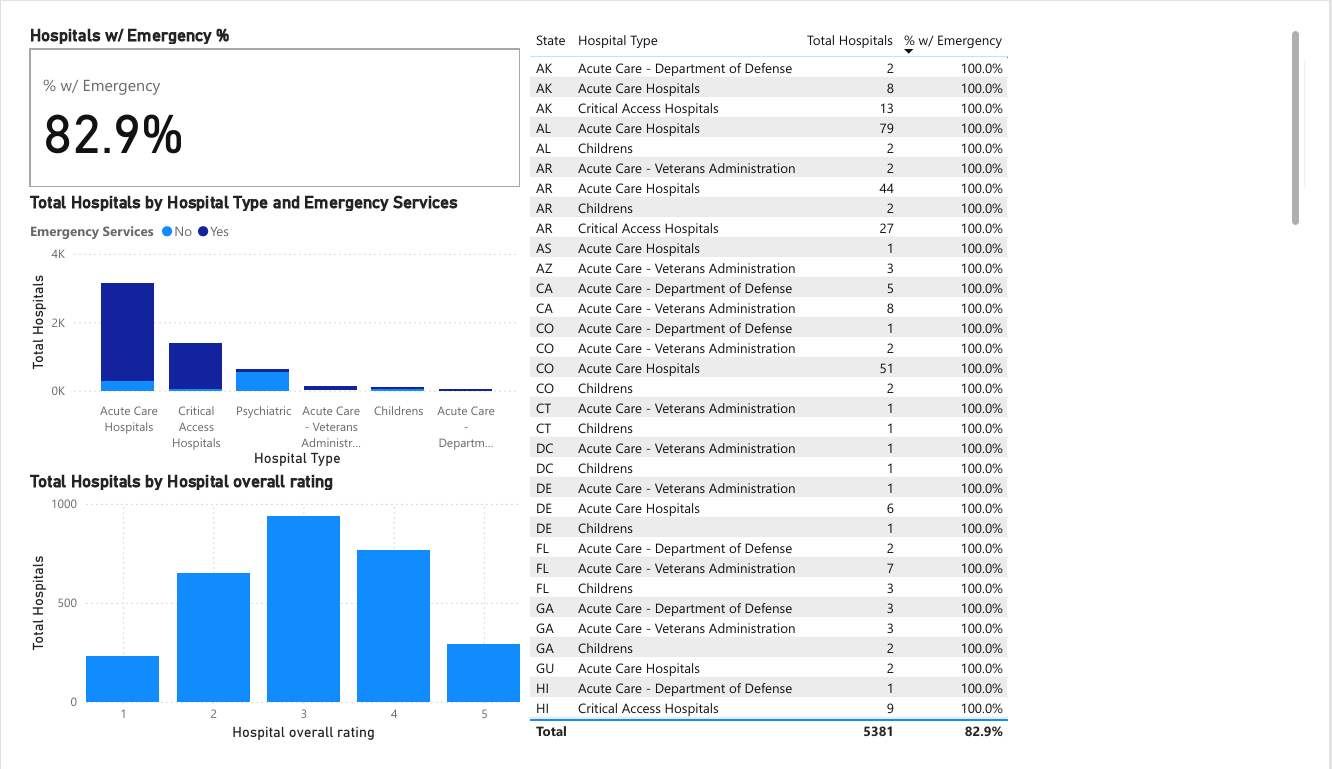

Layout of this report page (visuals, bound fields, positions):
{"tool":"powerbi","page":{"name":"Supply Readiness & Quality","canvas":[1280,720],"ordinal":2},"visuals":[{"type":"cardVisual","title":"Hospitals w/ Emergency %","fields":{"Data":["Hospital_General_Information.% w/ Emergency"]},"box":[0,0.5,500.2,166.3],"z":0},{"type":"columnChart","fields":{"Category":["Hospital_General_Information.Hospital Type"],"Y":["Hospital_General_Information.Total Hospitals"],"Series":["Hospital_General_Information.Emergency Services"]},"box":[0,166.8,500.2,279.6],"z":1},{"type":"columnChart","fields":{"Category":["Hospital_General_Information.Hospital overall rating"],"Y":["Hospital_General_Information.Total Hospitals"]},"box":[0,446,500.2,273.6],"z":2},{"type":"tableEx","fields":{"Values":["Hospital_General_Information.State","Hospital_General_Information.Hospital Type","Hospital_General_Information.Total Hospitals","Hospital_General_Information.% w/ Emergency"]},"box":[500.2,0,779.8,719.5],"z":3}]}

Visuals, with their boxes in screenshot pixels (x1, y1, x2, y2), scaled from the page's 1280x720 canvas onto the 1332x769 screenshot:
"Hospitals w/ Emergency %" cardVisual: <bbox>0, 1, 521, 178</bbox>
columnChart - Hospital_General_Information.Hospital Type x Hospital_General_Information.Total Hospitals: <bbox>0, 178, 521, 477</bbox>
columnChart - Hospital_General_Information.Hospital overall rating x Hospital_General_Information.Total Hospitals: <bbox>0, 476, 521, 768</bbox>
tableEx - Hospital_General_Information.State x Hospital_General_Information.Hospital Type: <bbox>521, 0, 1331, 768</bbox>
